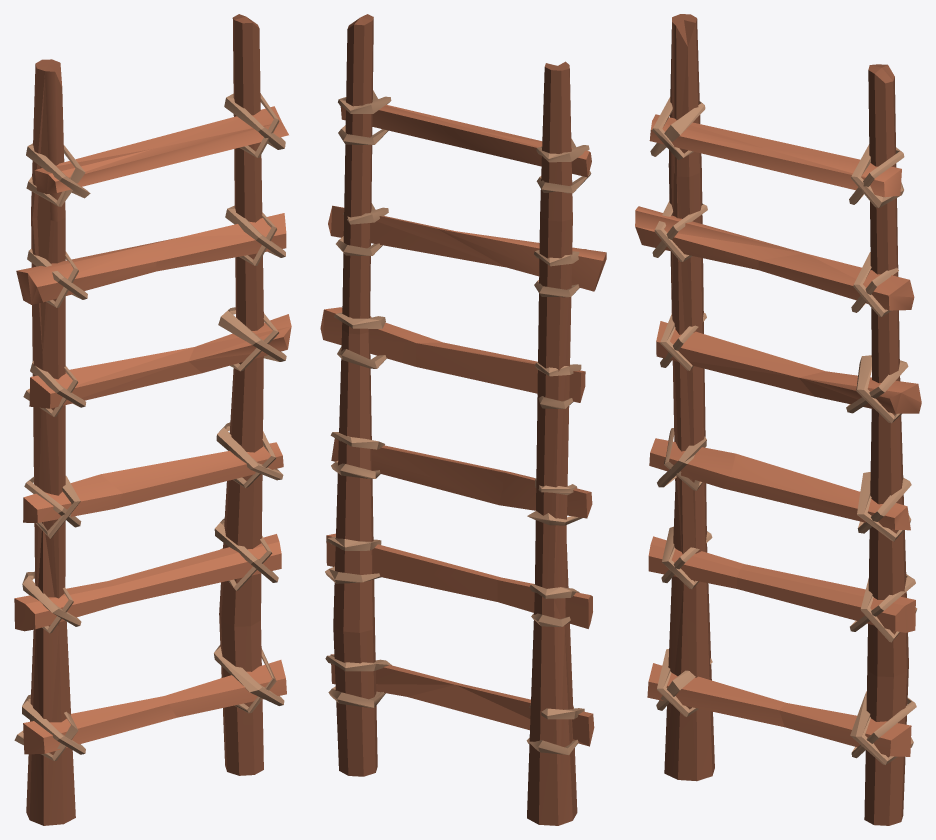
The model's file is Ladder.fbx.
3 views of the same model, side by side, from view 1: azimuth 30°, elevation 25°; view 2: azimuth 150°, elevation 25°; view 3: azimuth 330°, elevation 25° (orthographic).
Visible parts, largest first — view 1: Ladder; view 2: Ladder; view 3: Ladder.
Part boxes in pixels (x1,y1,x2,y2): Ladder: [14, 14, 291, 825]; Ladder: [320, 14, 606, 825]; Ladder: [635, 14, 921, 825].
Bounding box in the file's own units: 1.18 × 3.03 × 0.3214.
